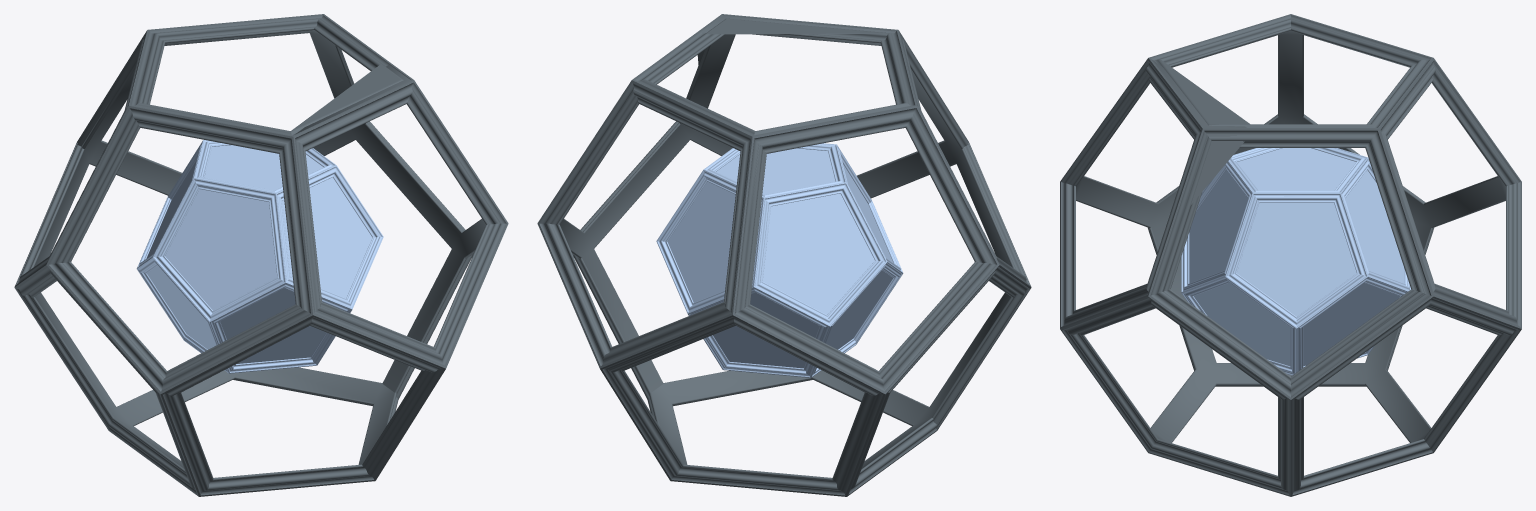
The picture shows the model from 3 angles, left to right: view 1: azimuth 30°, elevation 25°; view 2: azimuth 150°, elevation 25°; view 3: azimuth 270°, elevation 25°; orthographic projection. The views are drawn at different scales.
Visible parts, largest first — view 1: split_parent_1, split_parent_0; view 2: split_parent_1, split_parent_0; view 3: split_parent_1, split_parent_0.
Boxes of the visible parts, x1,y1,x2,y2 form: split_parent_1: [14, 14, 508, 496]; split_parent_0: [136, 140, 383, 373]; split_parent_1: [537, 14, 1031, 496]; split_parent_0: [656, 143, 903, 377]; split_parent_1: [1060, 14, 1521, 496]; split_parent_0: [1181, 148, 1410, 375].
Bounding box in the file's own units: 1 × 0.809 × 0.9511.
